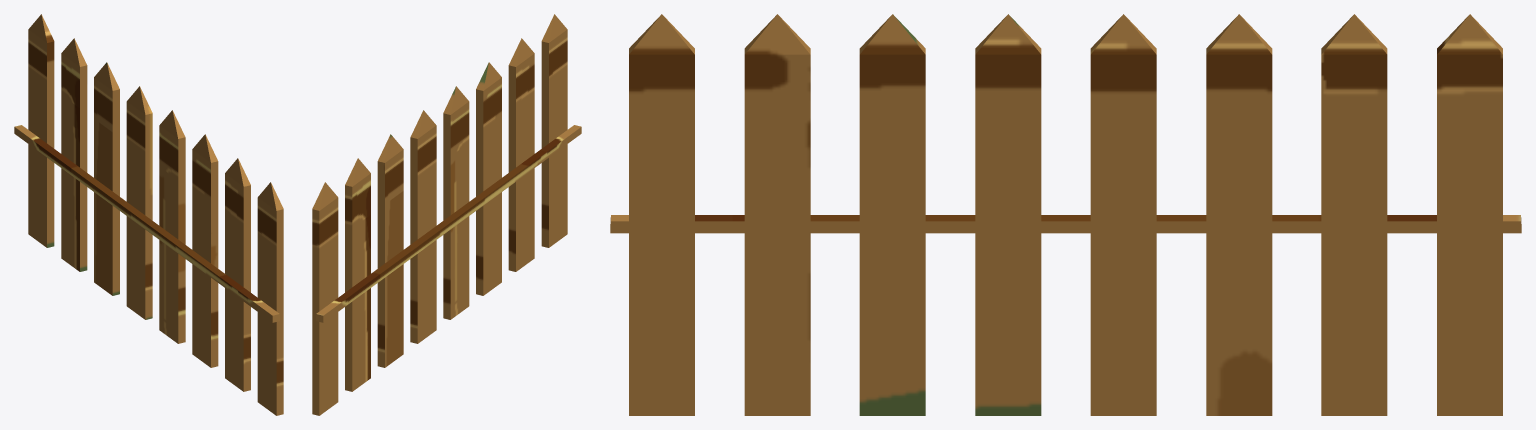
File: fence.fbx
3 views of the same model, side by side, from view 1: azimuth 30°, elevation 25°; view 2: azimuth 150°, elevation 25°; view 3: azimuth 270°, elevation 25° (orthographic). The views are drawn at different scales.
Parts seen in each view (by area): view 1: Cube; view 2: Cube; view 3: Cube.
Boxes of the visible parts, x1,y1,x2,y2 form: Cube: [14, 14, 283, 415]; Cube: [312, 14, 581, 415]; Cube: [610, 14, 1521, 415].
Size of the model in its own units: 0.4215 by 5.59 by 11.57.
